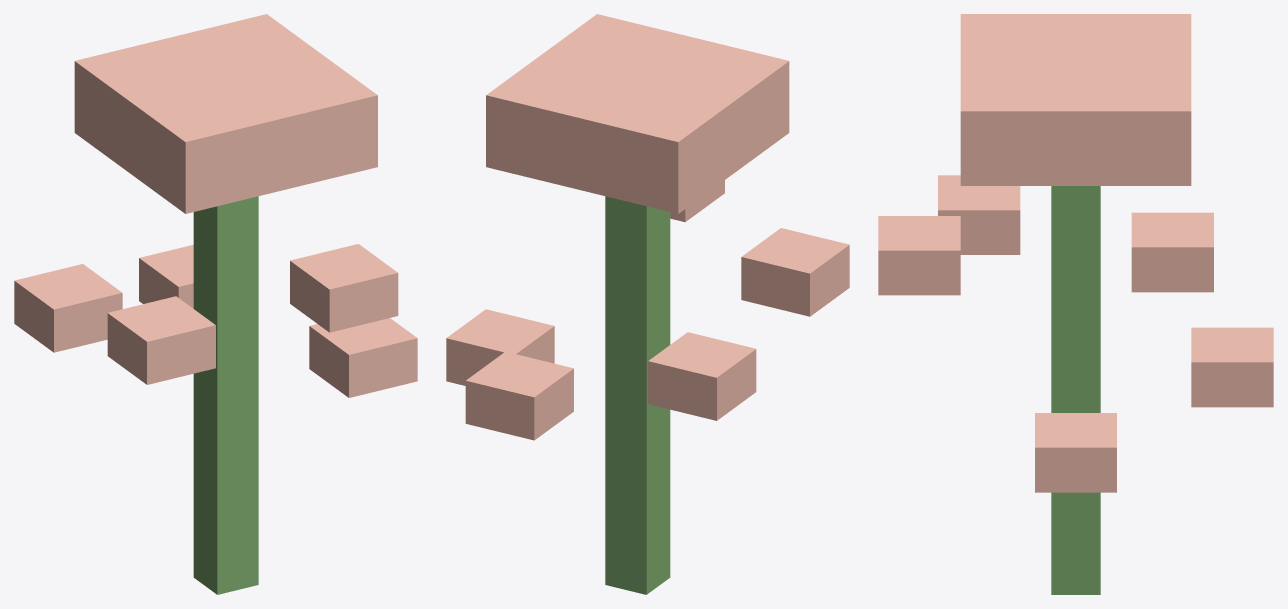
The model's file is Prop_DS_Herb_ZipVine_S3_V2.glb.
The picture shows the model from 3 angles, left to right: view 1: azimuth 30°, elevation 25°; view 2: azimuth 150°, elevation 25°; view 3: azimuth 270°, elevation 25°; orthographic projection. The views are drawn at different scales.
Visible parts, largest first — view 1: Cube.006, Cube, Cube.004, Cube.005, Cube.003, Cube.001, Cube.002; view 2: Cube.006, Cube, Cube.002, Cube.003, Cube.004, Cube.001, Cube.005; view 3: Cube.006, Cube, Cube.002, Cube.003, Cube.005, Cube.001, Cube.004.
Boxes of the visible parts, x1=… form: Cube.006: x1=74, y1=14, x2=377, y2=213; Cube: x1=193, y1=196, x2=258, y2=594; Cube.004: x1=107, y1=296, x2=215, y2=384; Cube.005: x1=290, y1=244, x2=398, y2=332; Cube.003: x1=14, y1=264, x2=122, y2=352; Cube.001: x1=309, y1=318, x2=417, y2=397; Cube.002: x1=139, y1=244, x2=193, y2=308; Cube.006: x1=486, y1=14, x2=789, y2=213; Cube: x1=605, y1=196, x2=670, y2=594; Cube.002: x1=465, y1=351, x2=573, y2=440; Cube.003: x1=648, y1=332, x2=756, y2=420; Cube.004: x1=741, y1=228, x2=849, y2=316; Cube.001: x1=446, y1=309, x2=554, y2=385; Cube.005: x1=670, y1=180, x2=724, y2=222; Cube.006: x1=960, y1=14, x2=1191, y2=185; Cube: x1=1051, y1=186, x2=1100, y2=594; Cube.002: x1=1191, y1=327, x2=1273, y2=407; Cube.003: x1=1131, y1=212, x2=1213, y2=292; Cube.005: x1=878, y1=216, x2=960, y2=295; Cube.001: x1=1035, y1=413, x2=1116, y2=492; Cube.004: x1=938, y1=175, x2=1020, y2=254.
Bounding box in the file's own units: 0.4618 × 0.7 × 0.4804.
